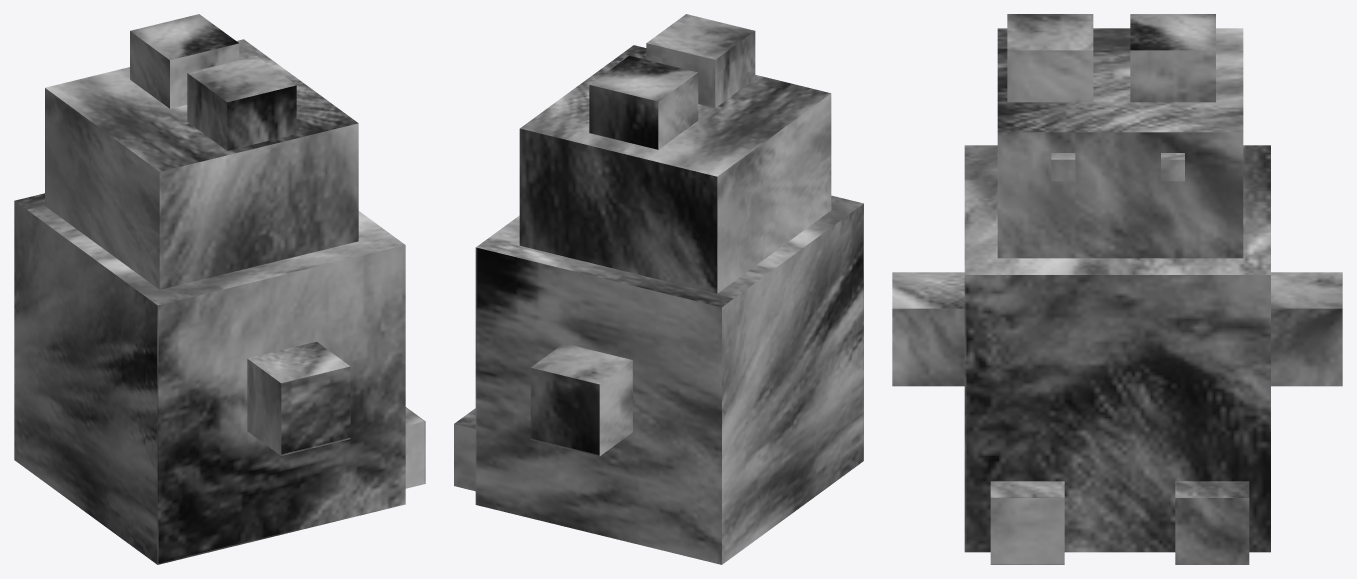
File: bear.obj
3 renders of one model, left to right at view 1: azimuth 30°, elevation 25°; view 2: azimuth 150°, elevation 25°; view 3: azimuth 270°, elevation 25°, orthographic. The views are drawn at different scales.
Visible parts, largest first — view 1: s_Cube.004; view 2: s_Cube.004; view 3: s_Cube.004.
Part boxes in pixels (box(x1,y1,x2,y2)): s_Cube.004: box(14, 14, 425, 564); s_Cube.004: box(454, 14, 863, 564); s_Cube.004: box(892, 14, 1342, 564).
Bounding box in the file's own units: 0.3904 × 0.5678 × 0.5086.
